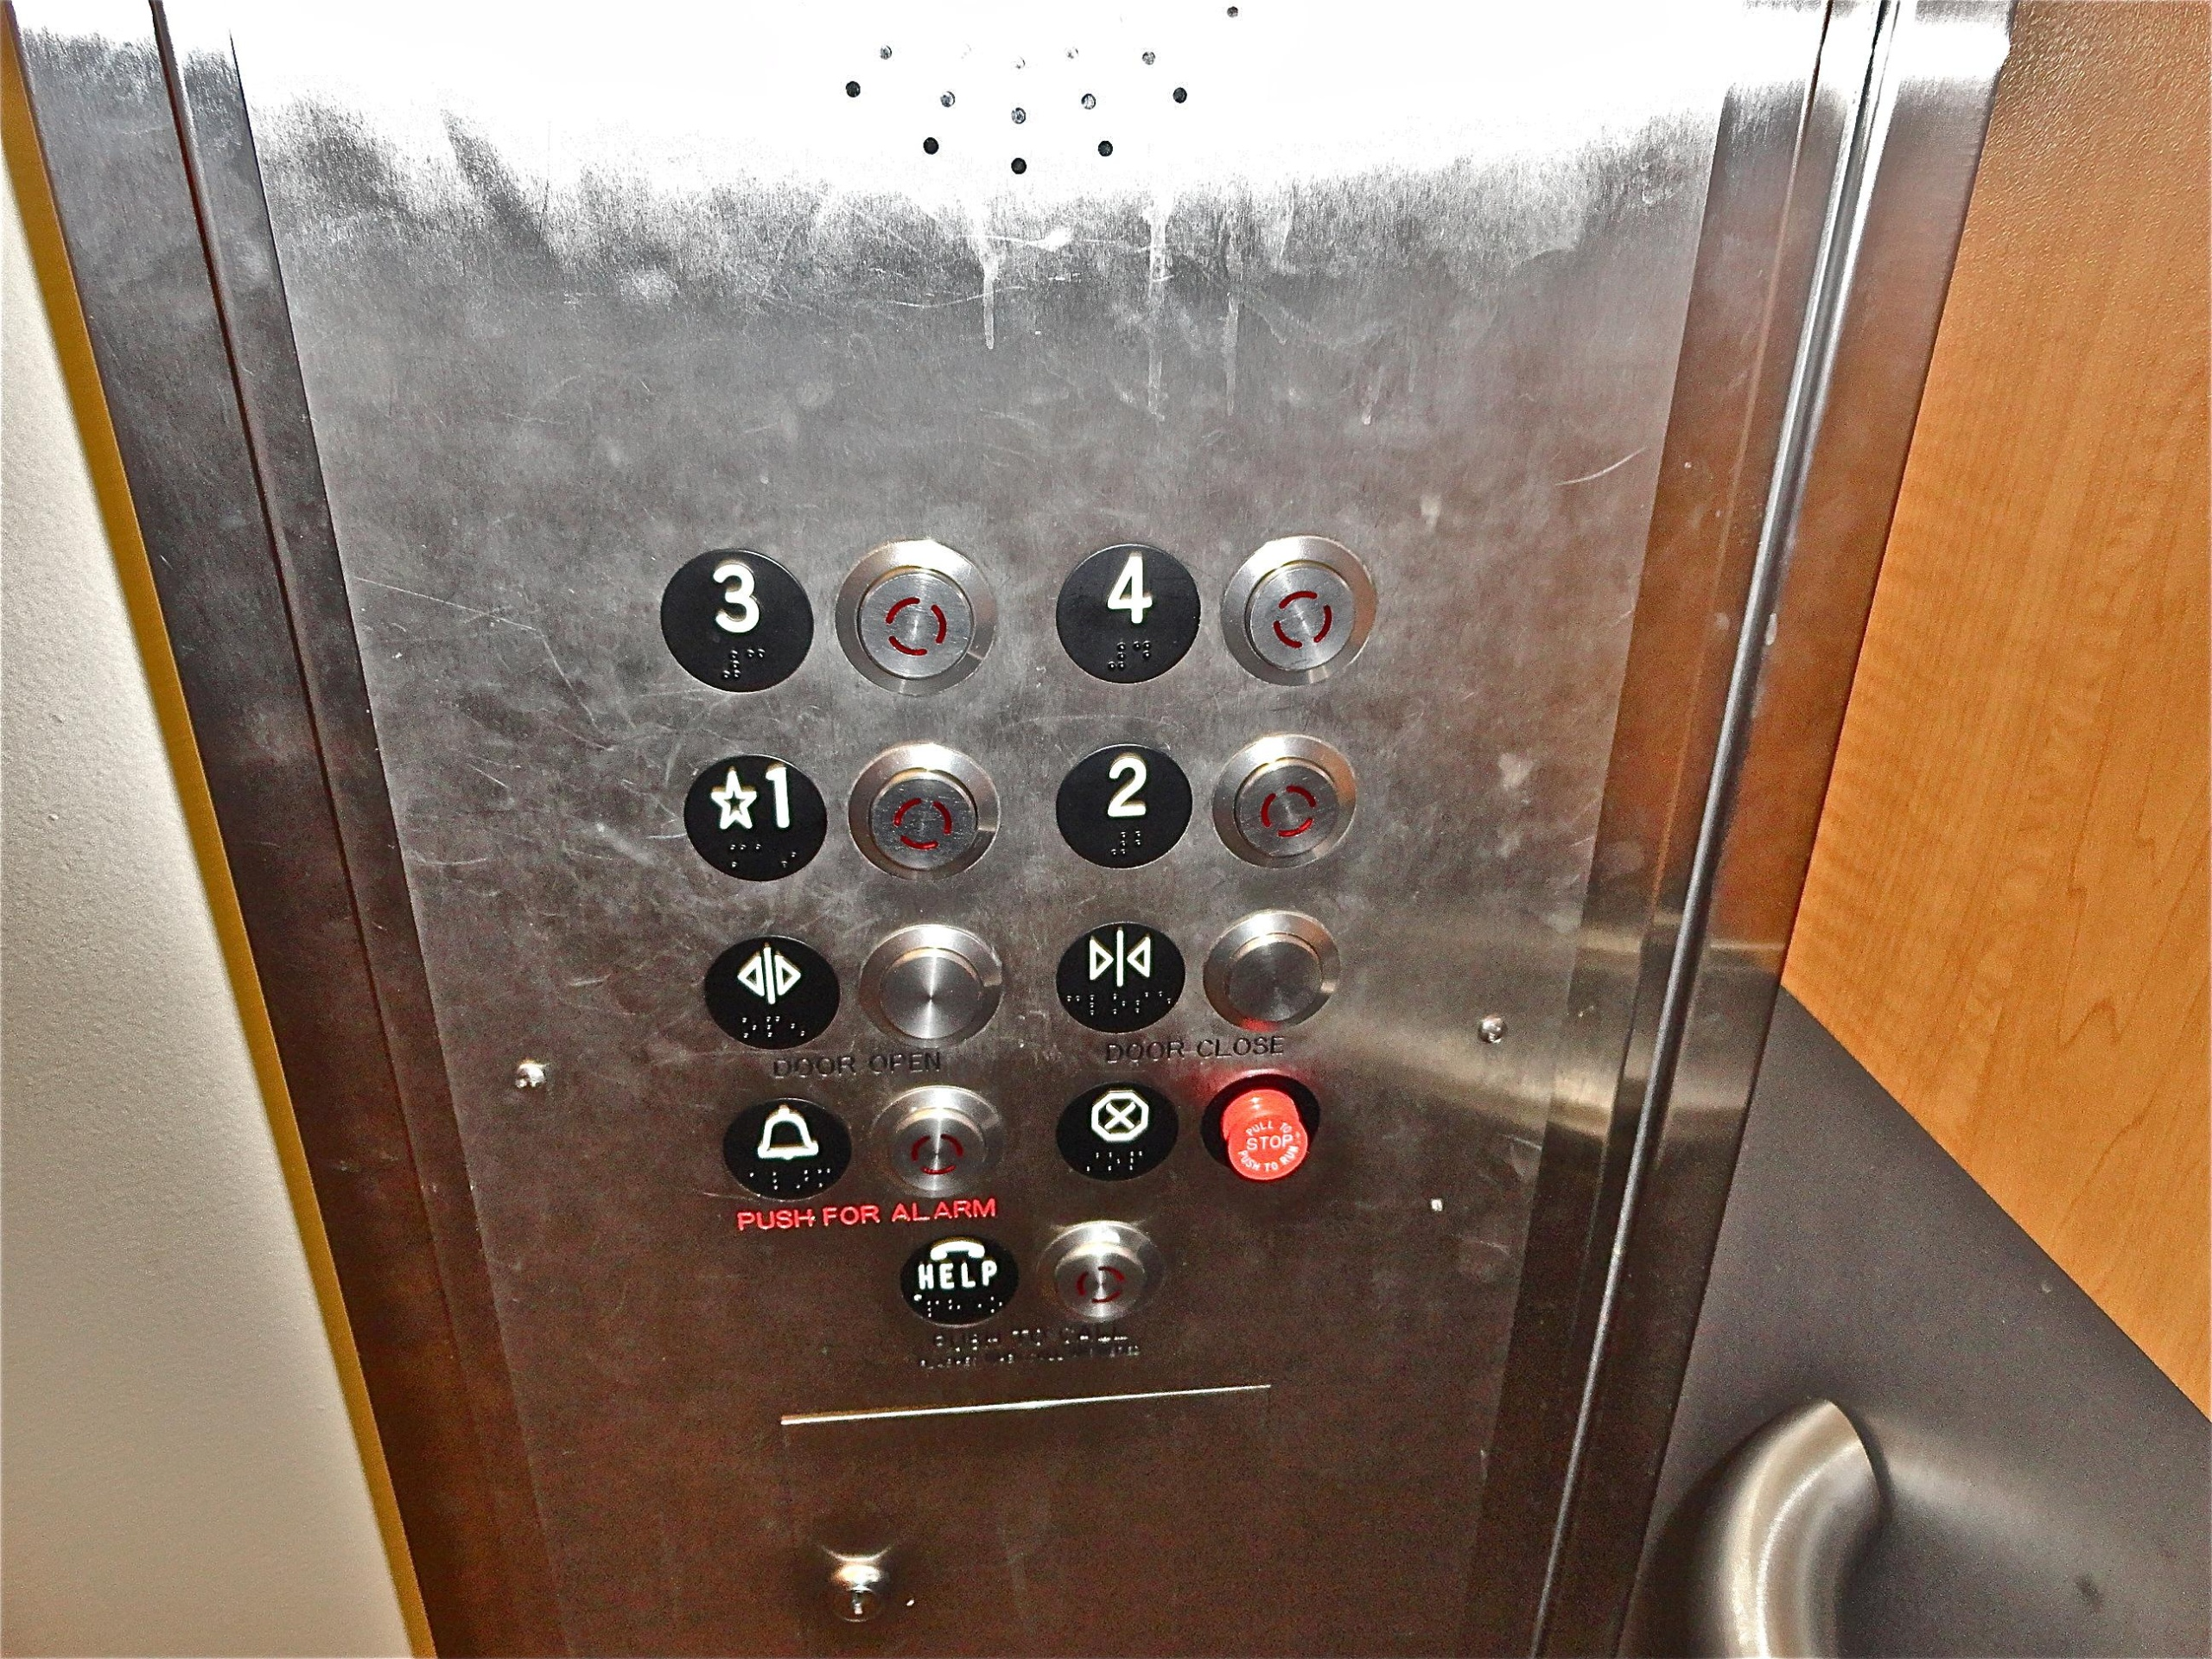2: (1057, 735, 1195, 871)
3: (660, 542, 819, 690)
4: (1050, 540, 1202, 688)
alarm: (721, 1093, 855, 1201)
call: (897, 1234, 1021, 1328)
close: (1050, 917, 1193, 1032)
empty: (1221, 535, 1383, 694), (833, 540, 996, 695), (840, 730, 1005, 880), (1205, 725, 1359, 871), (855, 920, 1012, 1053), (871, 1079, 1012, 1211), (1204, 910, 1348, 1032), (1029, 1220, 1172, 1328)
keyhole: (820, 1561, 892, 1624)
open: (705, 932, 845, 1053)
s1: (678, 748, 833, 885)
stop: (1054, 1079, 1183, 1178)
text_stop: (1209, 1072, 1327, 1190)
